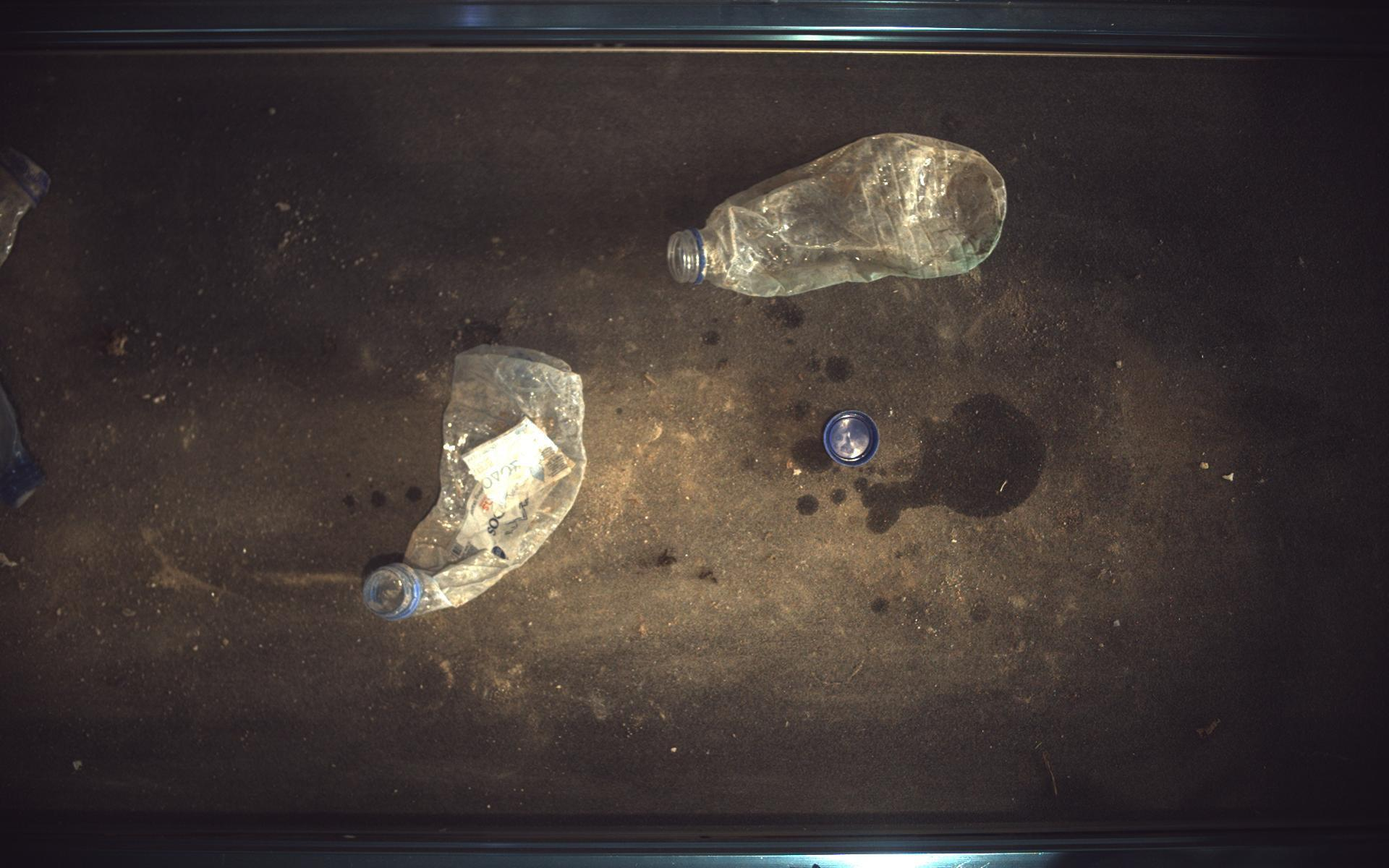general_w: (364, 346, 587, 619), (668, 133, 1008, 297), (1, 146, 49, 263), (1, 386, 43, 508), (825, 410, 881, 467)
